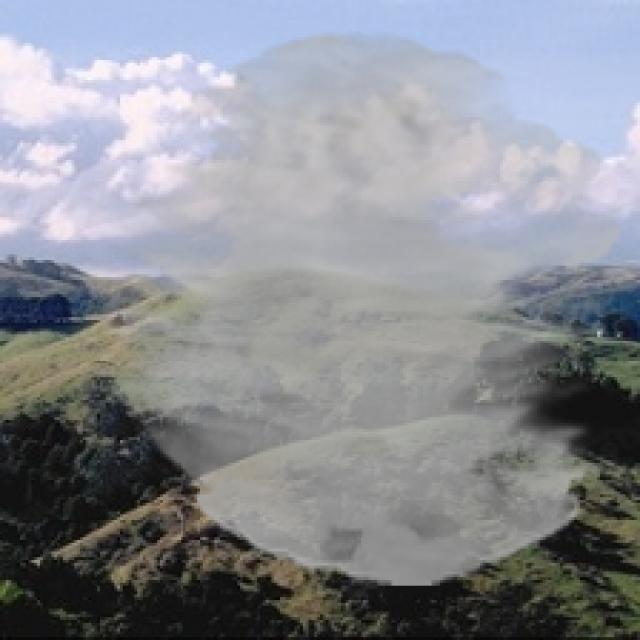smoke: (100, 31, 620, 586)
